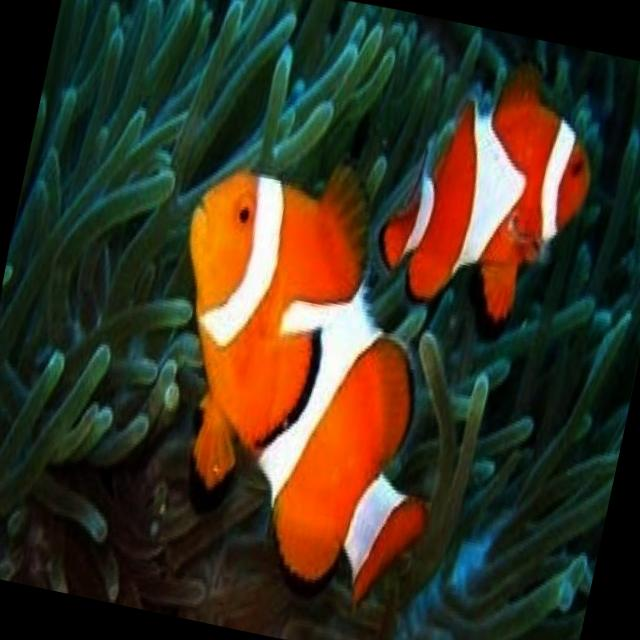ClownFish: (112, 136, 492, 622), (362, 40, 612, 338)
